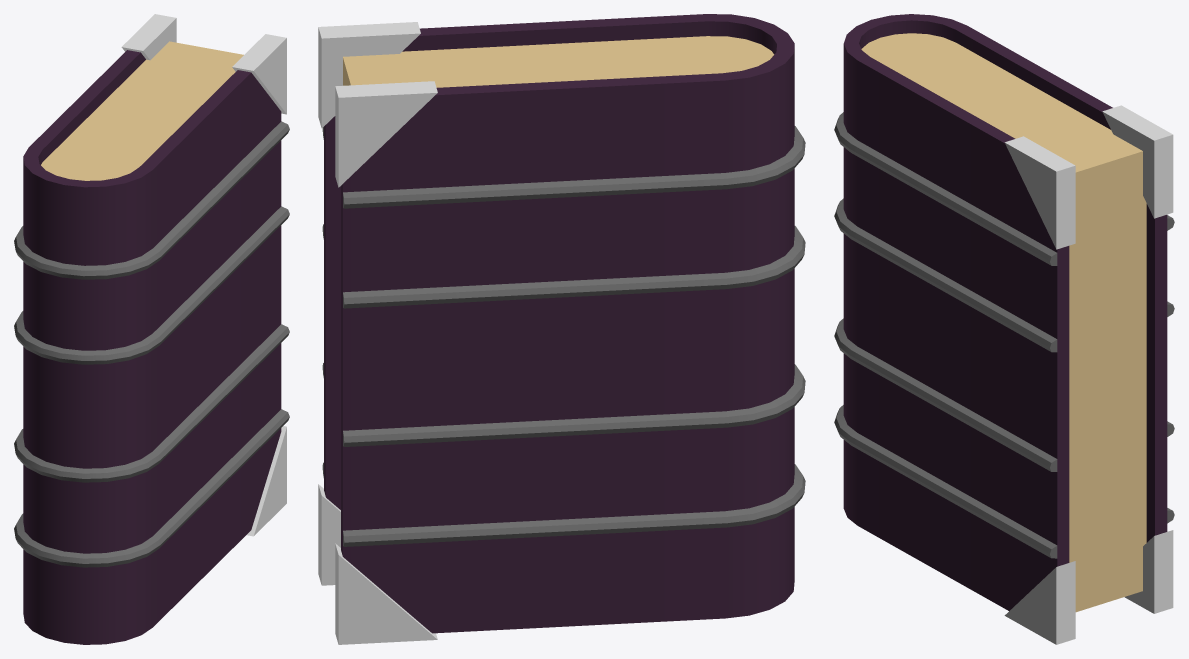
The model's file is obj_Book_01.fbx.
The picture shows the model from 3 angles, left to right: view 1: azimuth 30°, elevation 25°; view 2: azimuth 150°, elevation 25°; view 3: azimuth 270°, elevation 25°; orthographic projection. The views are drawn at different scales.
Parts seen in each view (by area): view 1: Book_01, Book_EdgePattern.009; view 2: Book_01, Book_EdgePattern.009; view 3: Book_01, Book_EdgePattern.009.
Part boxes in pixels (left/top/right/bottom): Book_01: left=14, top=41, right=289, bottom=644; Book_EdgePattern.009: left=121, top=14, right=286, bottom=536; Book_01: left=322, top=14, right=805, bottom=633; Book_EdgePattern.009: left=318, top=22, right=437, bottom=644; Book_01: left=834, top=14, right=1174, bottom=612; Book_EdgePattern.009: left=1004, top=105, right=1173, bottom=644.
Bounding box in the file's own units: 0.2291 × 0.3052 × 0.199.
